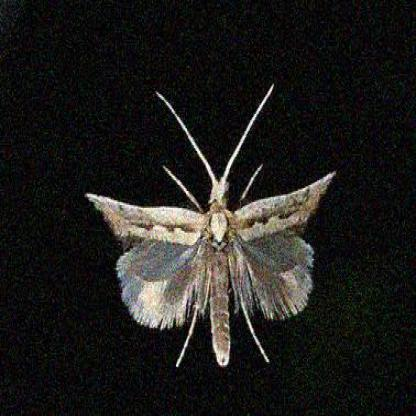plutella: (79, 74, 341, 378)
